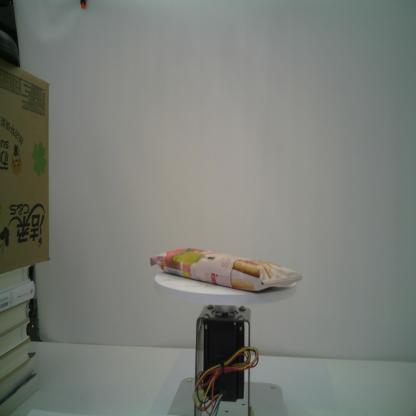Dessert: (149, 247, 302, 293)
